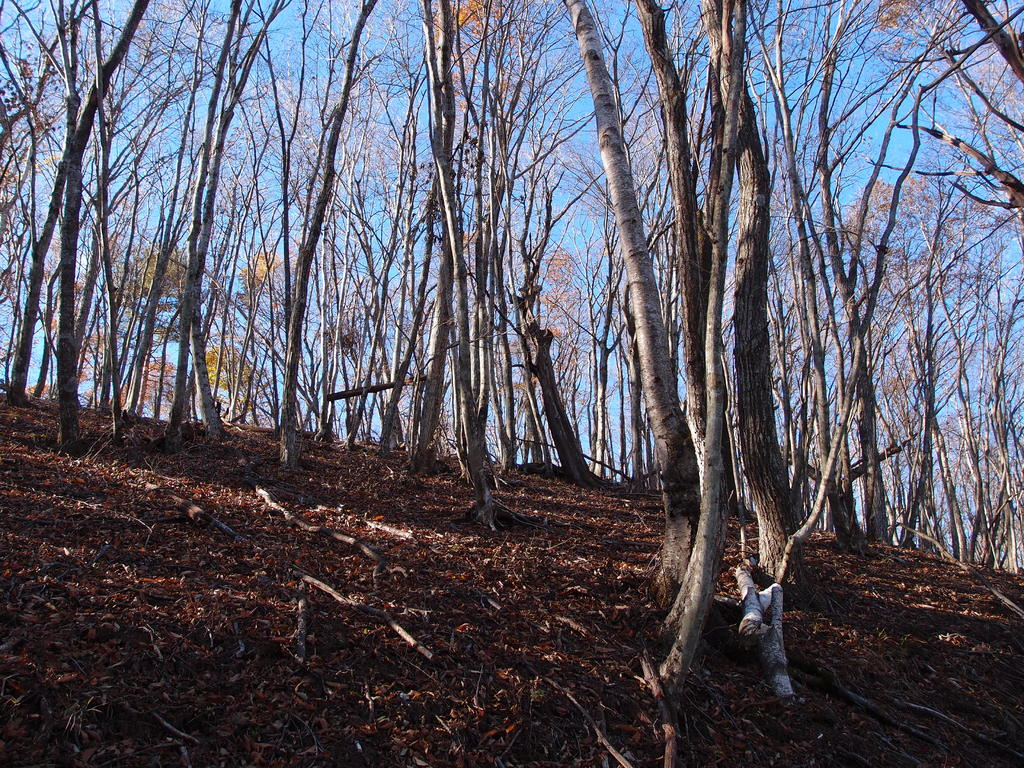Tree: (81, 23, 1002, 597)
